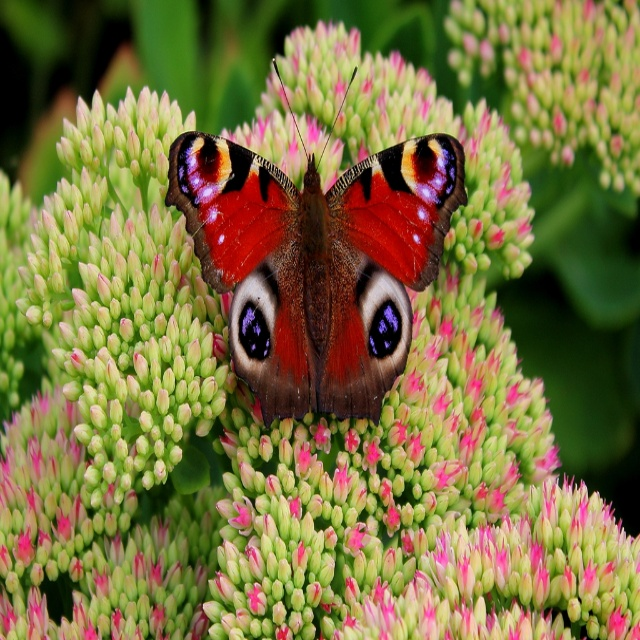Butterfly: (172, 51, 458, 445)
